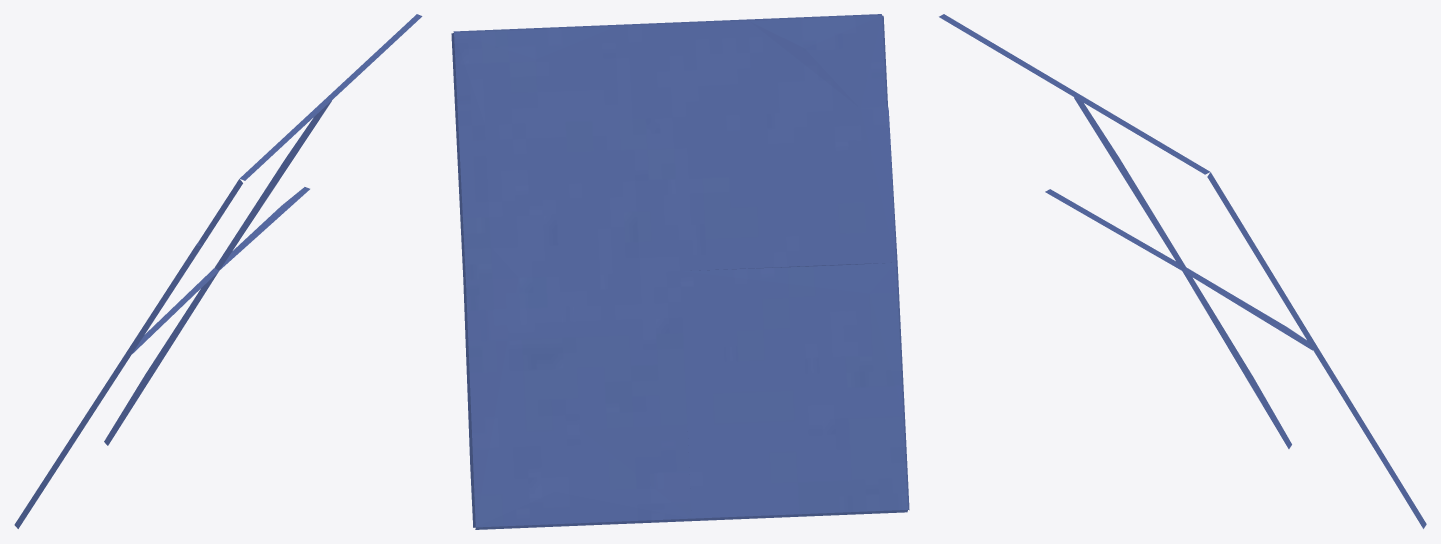
3 renders of one model, left to right at view 1: azimuth 30°, elevation 25°; view 2: azimuth 150°, elevation 25°; view 3: azimuth 270°, elevation 25°, orthographic. The views are drawn at different scales.
Size of the model in its own units: 78853 by 68628 by 72179.
1 material, 1 textured.
